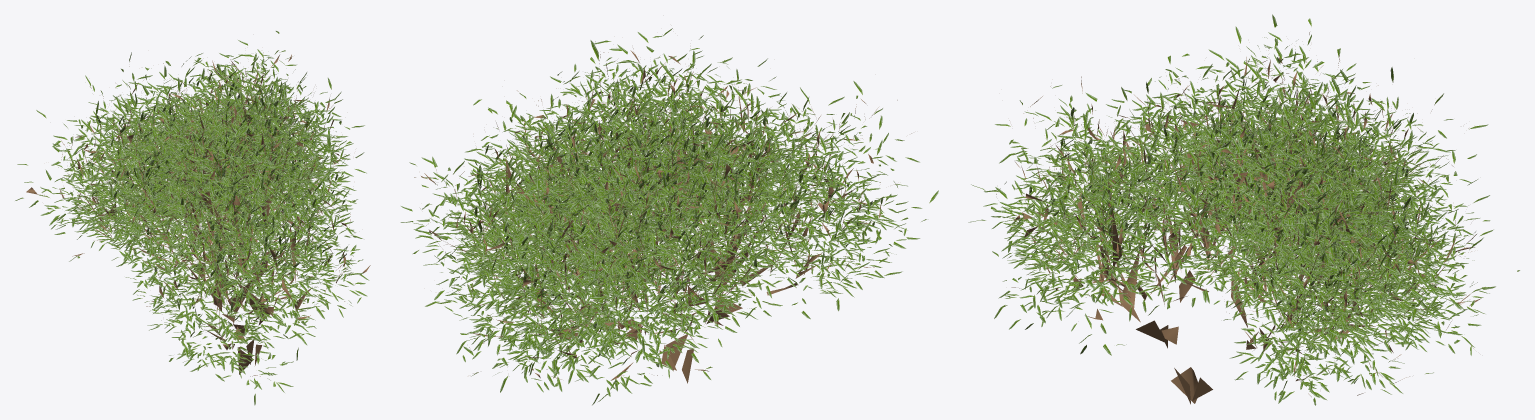
File: olive.glb
3 views of the same model, side by side, from view 1: azimuth 30°, elevation 25°; view 2: azimuth 150°, elevation 25°; view 3: azimuth 270°, elevation 25° (orthographic). The views are drawn at different scales.
Visible parts, largest first — view 1: OLIVE LEAFS, OLIVE wood; view 2: OLIVE LEAFS, OLIVE wood; view 3: OLIVE LEAFS, OLIVE wood.
Boxes of the visible parts, left/top/right/bottom form: OLIVE LEAFS: left=15, top=31, right=369, bottom=405; OLIVE wood: left=26, top=52, right=370, bottom=376; OLIVE LEAFS: left=400, top=28, right=938, bottom=405; OLIVE wood: left=414, top=41, right=911, bottom=383; OLIVE LEAFS: left=968, top=14, right=1519, bottom=405; OLIVE wood: left=996, top=32, right=1480, bottom=404.
Size of the model in its own units: 4.48 by 3.98 by 5.46.
2 materials, 1 textured.
